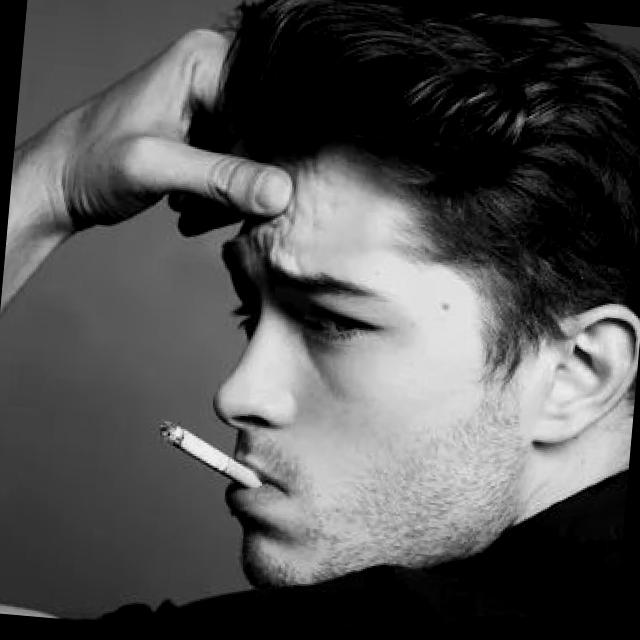smoke: (152, 418, 268, 490)
